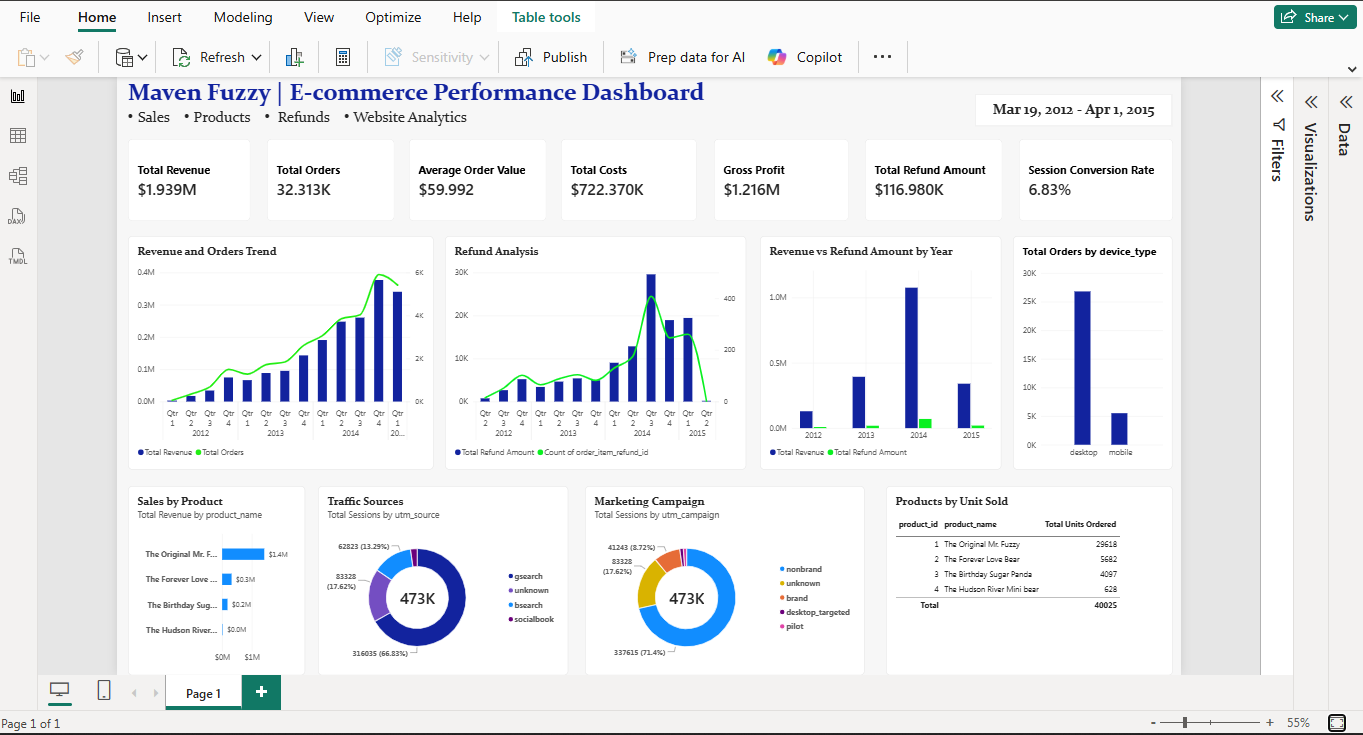

This screenshot's page, from the dashboard's own definition file:
{"tool":"powerbi","page":{"name":"Page 1","canvas":[1920,1080],"ordinal":0},"visuals":[{"type":"cardVisual","fields":{"Data":["_Measure.Total Revenue"]},"box":[20,111.7,221.7,148.3],"z":0},{"type":"cardVisual","fields":{"Data":["_Measure.Total Orders"]},"box":[270,111.7,230,148.3],"z":1000},{"type":"cardVisual","fields":{"Data":["_Measure.Average Order Value"]},"box":[526.7,111.7,248.3,148.3],"z":2000},{"type":"cardVisual","fields":{"Data":["_Measure.Total Costs"]},"box":[801.7,111.7,245,148.3],"z":3000},{"type":"cardVisual","fields":{"Data":["_Measure.Total Refund Amount"]},"box":[1350,111.7,248.3,148.3],"z":4000},{"type":"lineClusteredColumnComboChart","title":"Revenue and Orders Trend","fields":{"Category":["dim_date.Date.Variation.Date Hierarchy.Year","dim_date.Date.Variation.Date Hierarchy.Quarter"],"Y":["_Measure.Total Revenue"],"Y2":["_Measure.Total Orders"]},"box":[20,288,552,422],"z":5000},{"type":"lineClusteredColumnComboChart","title":"Refund Analysis","fields":{"Category":["dim_date.Date.Variation.Date Hierarchy.Year","dim_date.Date.Variation.Date Hierarchy.Quarter"],"Y":["_Measure.Total Refunds"],"Y2":["Count(fact_order_item_refunds.order_item_refund_id)"]},"box":[592,288,544,422],"z":6000},{"type":"clusteredBarChart","title":"Sales by Product","fields":{"Category":["dim_product.product_name"],"Y":["_Measure.Total Revenue"]},"box":[20,738.3,320,341.7],"z":7000},{"type":"donutChart","title":"Traffic Sources","fields":{"Category":["dim_utm.utm_source"],"Y":["_Measure.Total Sessions"]},"box":[363.3,738.3,451.7,341.7],"z":8000},{"type":"tableEx","title":"Products by Unit Sold","fields":{"Values":["dim_product.product_id","dim_product.product_name","_Measure.Total Unit ordered"]},"box":[1388,738,518,342],"z":9000},{"type":"cardVisual","fields":{"Data":["_Measure.Gross Profit"]},"box":[1078.3,111.7,243.3,148.3],"z":10000},{"type":"cardVisual","fields":{"Data":["_Measure.Session Conversion Rate"]},"box":[1628.3,111.7,278.3,148.3],"z":11000},{"type":"donutChart","title":"Marketing Campaign","fields":{"Category":["dim_utm.utm_campaign"],"Y":["_Measure.Total Sessions"]},"box":[845,738.3,505,341.7],"z":12000},{"type":"clusteredColumnChart","fields":{"Category":["dim_user.device_type"],"Y":["_Measure.Total Orders"]},"box":[1618,288,288,422],"z":13000},{"type":"textbox","box":[20,0,1142,118],"z":14000},{"type":"textbox","box":[1550,30,356,58],"z":15000},{"type":"clusteredColumnChart","title":"Revenue vs Refund Amount by Year","fields":{"Category":["dim_date.Date.Variation.Date Hierarchy.Year","dim_date.Date.Variation.Date Hierarchy.Quarter"],"Y":["_Measure.Total Revenue","_Measure.Total Refunds"]},"box":[1162,288,436,422],"z":16000}]}

Visuals, with their boxes on the page's 1920x1080 design canvas (x1, y1, x2, y2). These are canvas units, not pixel positions in the 1363x735 screenshot, which may show the page scaled, cropped or inside an application window:
cardVisual - _Measure.Total Revenue: {"left": 20, "top": 112, "right": 242, "bottom": 260}
cardVisual - _Measure.Total Orders: {"left": 270, "top": 112, "right": 500, "bottom": 260}
cardVisual - _Measure.Average Order Value: {"left": 527, "top": 112, "right": 775, "bottom": 260}
cardVisual - _Measure.Total Costs: {"left": 802, "top": 112, "right": 1047, "bottom": 260}
cardVisual - _Measure.Total Refund Amount: {"left": 1350, "top": 112, "right": 1598, "bottom": 260}
"Revenue and Orders Trend" lineClusteredColumnComboChart: {"left": 20, "top": 288, "right": 572, "bottom": 710}
"Refund Analysis" lineClusteredColumnComboChart: {"left": 592, "top": 288, "right": 1136, "bottom": 710}
"Sales by Product" clusteredBarChart: {"left": 20, "top": 738, "right": 340, "bottom": 1080}
"Traffic Sources" donutChart: {"left": 363, "top": 738, "right": 815, "bottom": 1080}
"Products by Unit Sold" tableEx: {"left": 1388, "top": 738, "right": 1906, "bottom": 1080}
cardVisual - _Measure.Gross Profit: {"left": 1078, "top": 112, "right": 1322, "bottom": 260}
cardVisual - _Measure.Session Conversion Rate: {"left": 1628, "top": 112, "right": 1907, "bottom": 260}
"Marketing Campaign" donutChart: {"left": 845, "top": 738, "right": 1350, "bottom": 1080}
clusteredColumnChart - dim_user.device_type x _Measure.Total Orders: {"left": 1618, "top": 288, "right": 1906, "bottom": 710}
textbox: {"left": 20, "top": 0, "right": 1162, "bottom": 118}
textbox: {"left": 1550, "top": 30, "right": 1906, "bottom": 88}
"Revenue vs Refund Amount by Year" clusteredColumnChart: {"left": 1162, "top": 288, "right": 1598, "bottom": 710}
